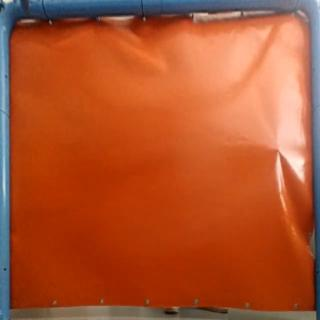Hit-hRxx: (274, 142, 282, 156)
